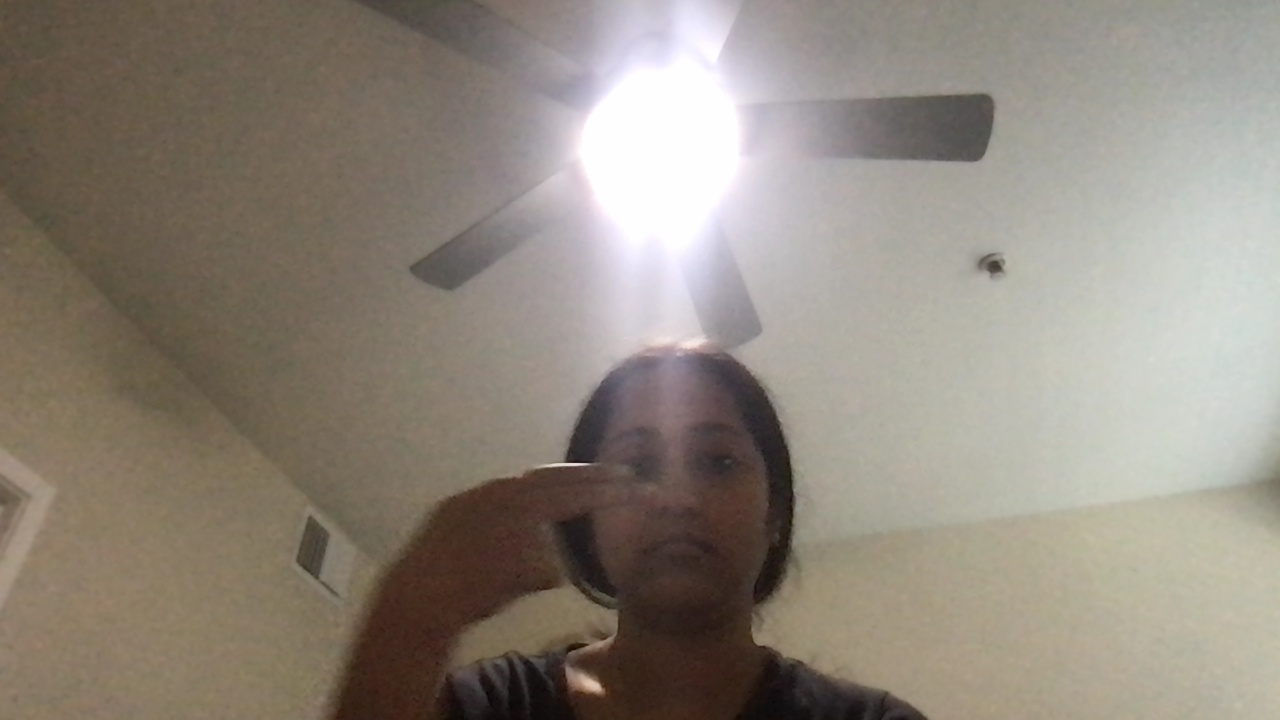h: (430, 468, 662, 594)
